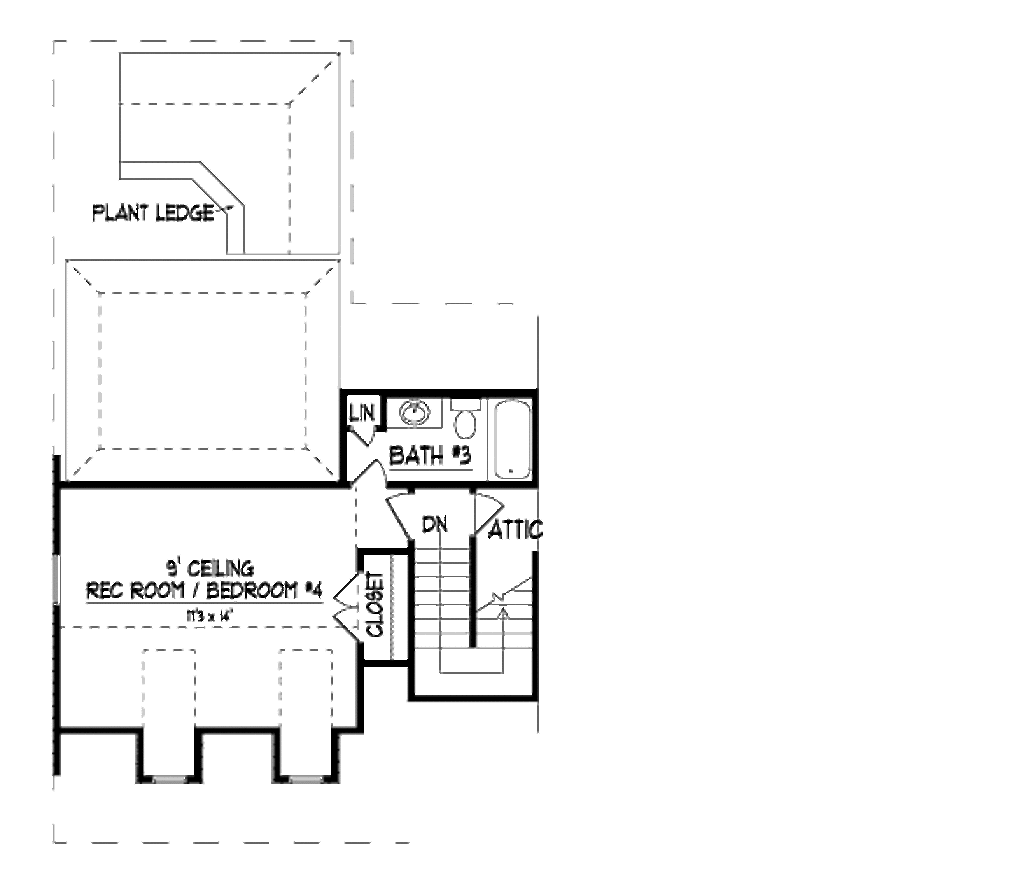door: (331, 573, 364, 647), (385, 486, 419, 539), (348, 456, 393, 492), (477, 489, 508, 539), (348, 427, 383, 451)
large_sink: (446, 398, 488, 450)
small_sink: (388, 399, 444, 431)
stairs: (410, 552, 548, 697)
tub: (485, 393, 533, 479)
window: (52, 547, 64, 606), (153, 775, 188, 785), (288, 777, 333, 783)
